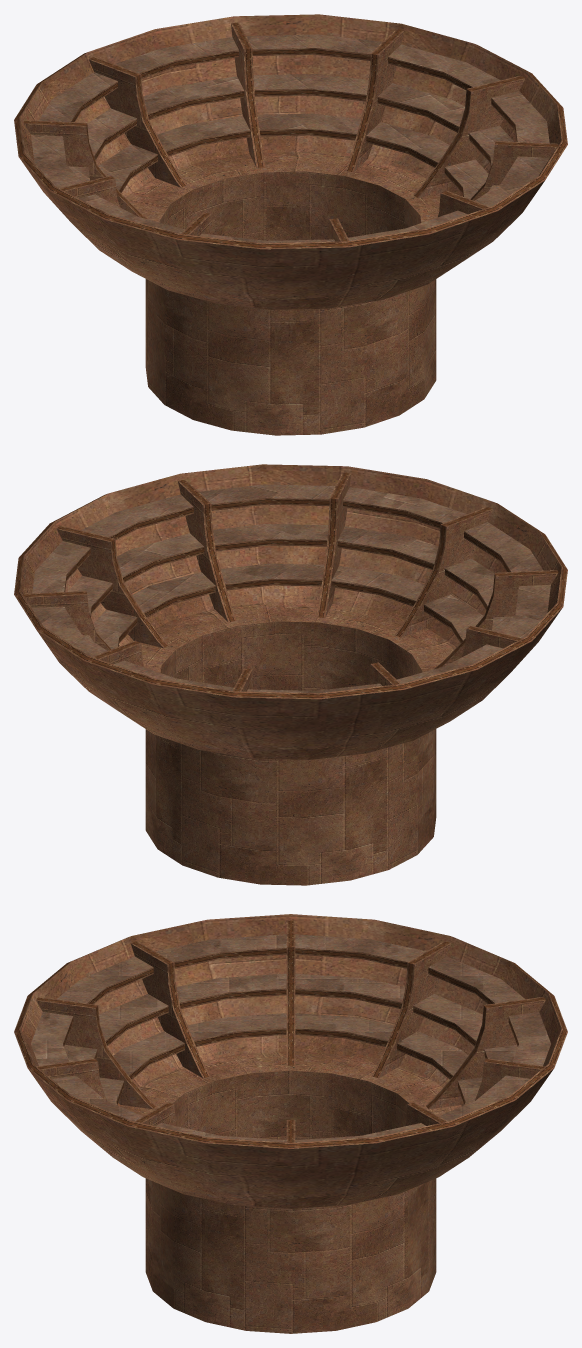
File: thm_tato_debris_s10_l0.fbx
The picture shows the model from 3 angles, top to bottom: view 1: azimuth 30°, elevation 25°; view 2: azimuth 150°, elevation 25°; view 3: azimuth 270°, elevation 25°; orthographic projection.
Visible parts, largest first — view 1: mesh_node; view 2: mesh_node; view 3: mesh_node.
Part boxes in pixels (<box>): mesh_node: <box>14,14,567,435</box>; mesh_node: <box>14,464,567,885</box>; mesh_node: <box>14,914,567,1333</box>.
Size of the model in its own units: 6.53 by 3.17 by 6.53.
